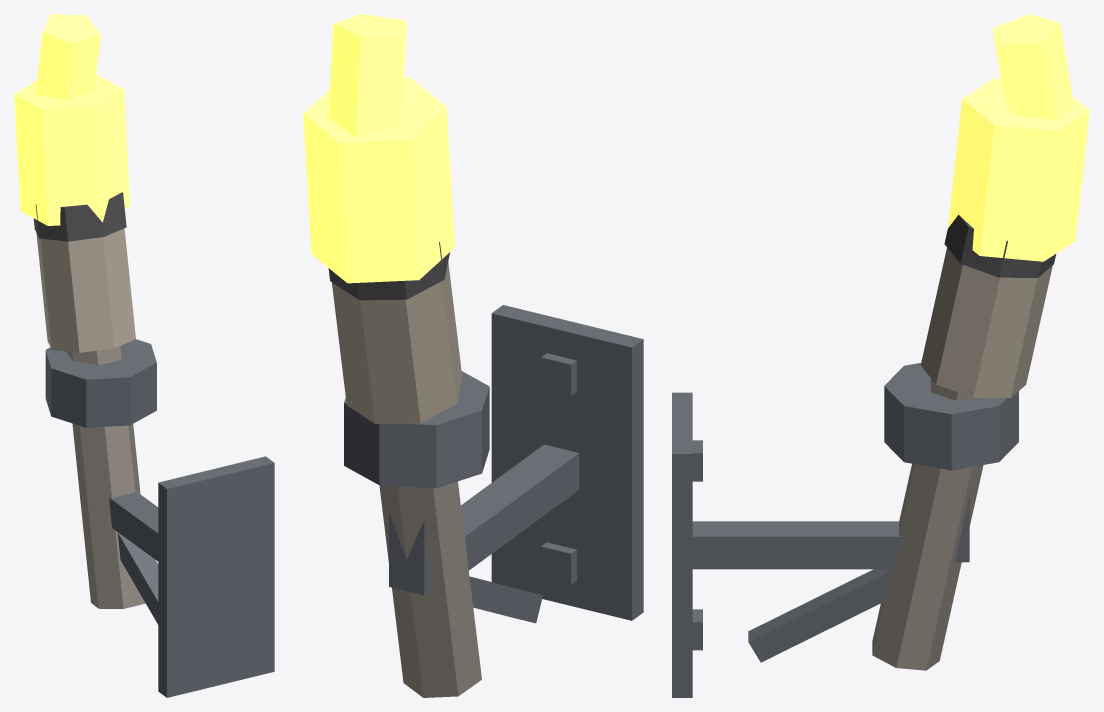
Rendered from wall_torch.glb.
3 renders of one model, left to right at view 1: azimuth 30°, elevation 25°; view 2: azimuth 150°, elevation 25°; view 3: azimuth 270°, elevation 25°, orthographic. The views are drawn at different scales.
Visible parts, largest first — view 1: wall_torch; view 2: wall_torch; view 3: wall_torch.
Part boxes in pixels (x1,y1,x2,y2): wall_torch: [14, 14, 274, 697]; wall_torch: [303, 14, 643, 697]; wall_torch: [672, 14, 1089, 697].
Size of the model in its own units: 0.14 by 0.6846 by 0.4037.
